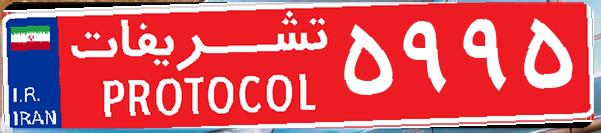5: (340, 20, 400, 115), (520, 20, 580, 115)
9: (400, 20, 460, 115), (460, 20, 520, 115)
تشریفات: (60, 8, 340, 125)
